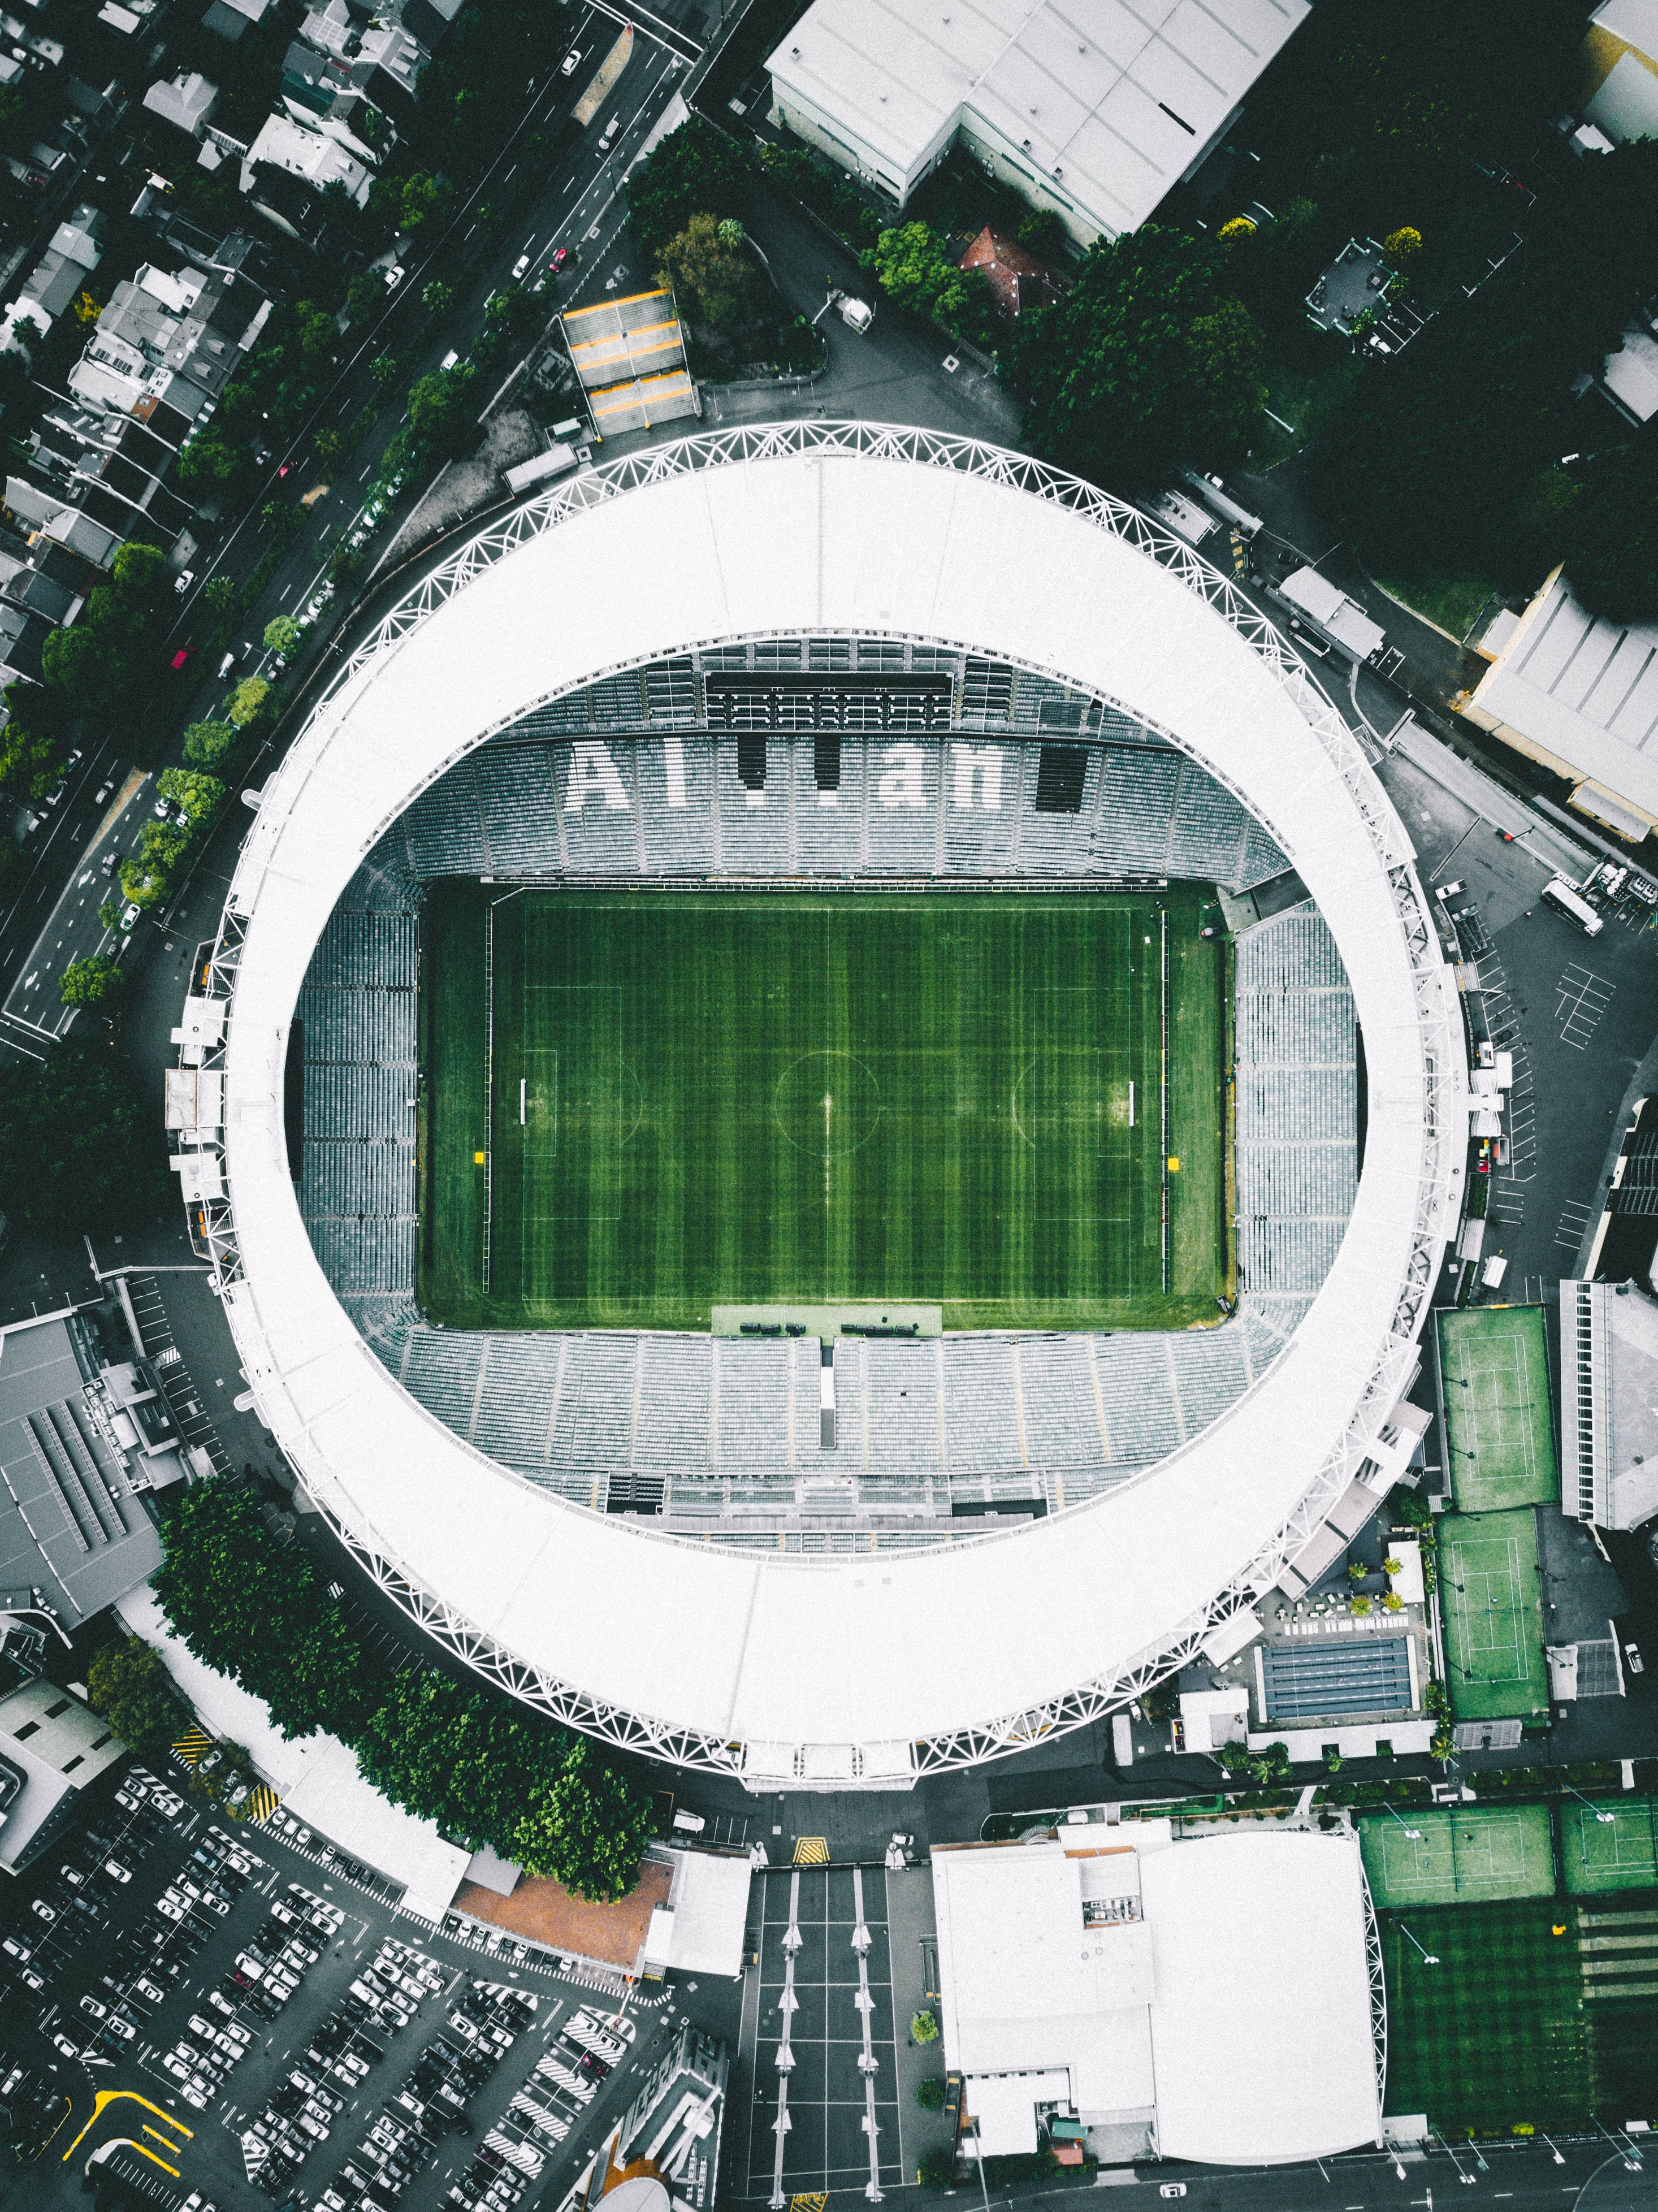stadium: (251, 451, 1383, 1750)
